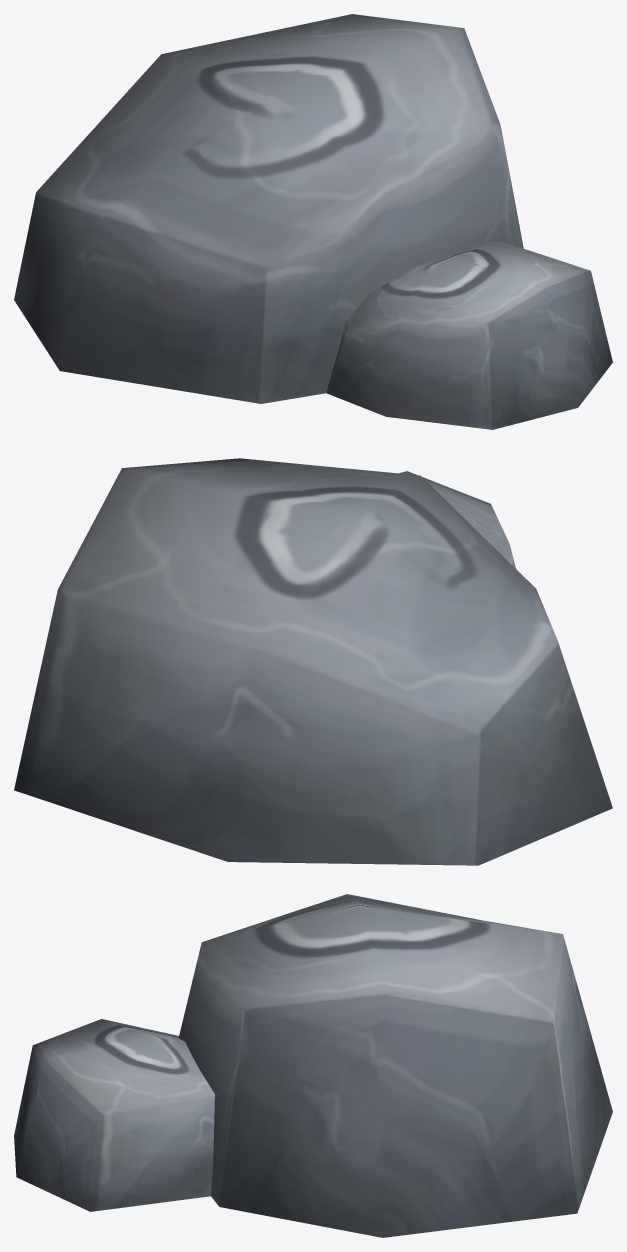
File: rock_02.fbx
The picture shows the model from 3 angles, top to bottom: view 1: azimuth 30°, elevation 25°; view 2: azimuth 150°, elevation 25°; view 3: azimuth 270°, elevation 25°; orthographic projection. The views are drawn at different scales.
Visible parts, largest first — view 1: rock_02; view 2: rock_02; view 3: rock_02.
Part boxes in pixels (x1,y1,x2,y2): rock_02: (14, 14, 612, 429); rock_02: (14, 458, 612, 865); rock_02: (14, 894, 612, 1237).
Bounding box in the file's own units: 3.34 × 1.49 × 3.71.
